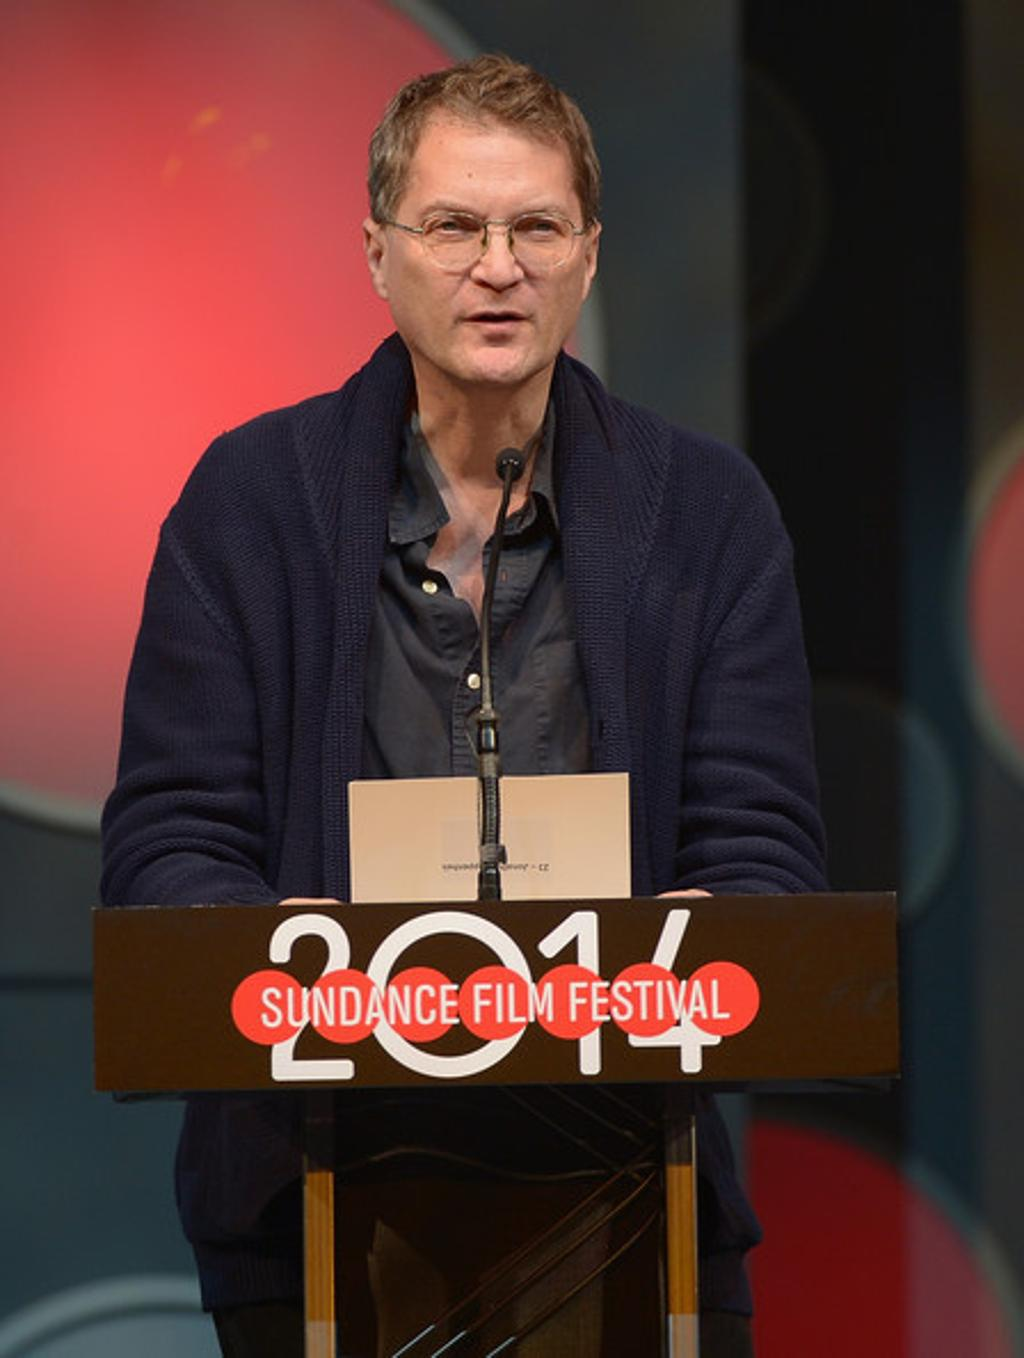face: (391, 107, 582, 388)
